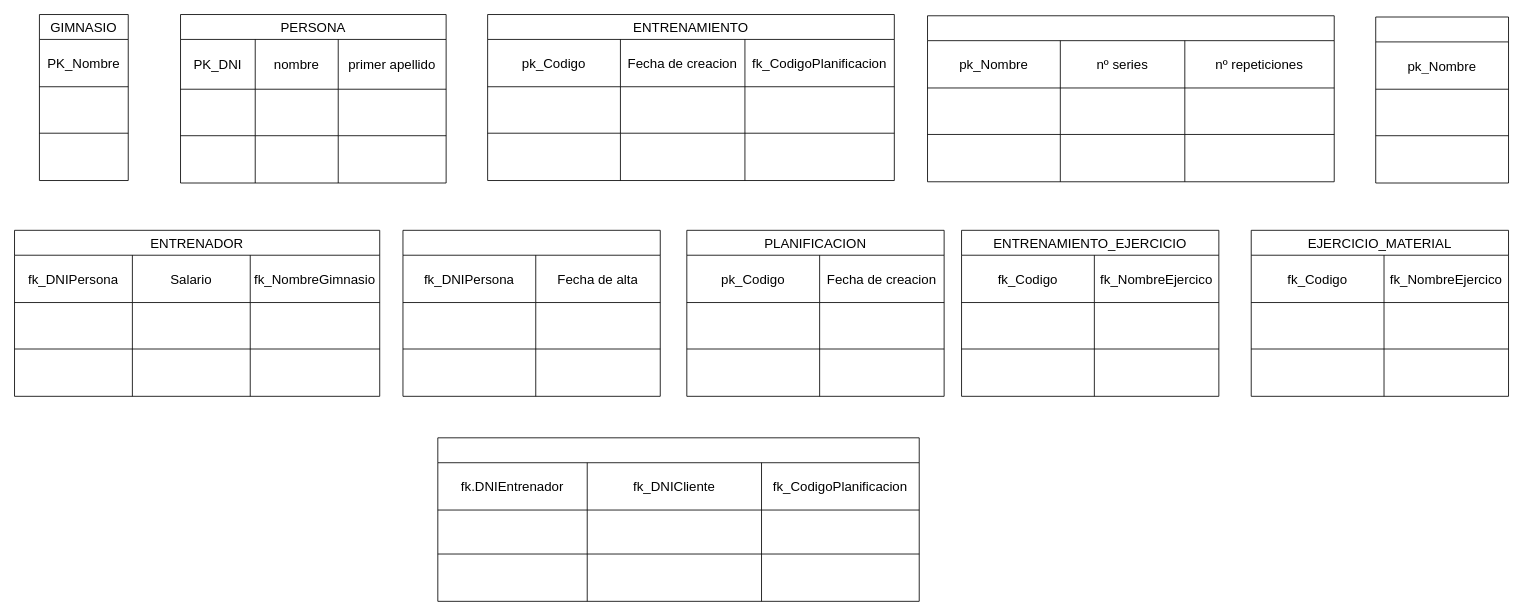
This 1523x616 diagram has some shape labels left out. The box of each missing label's shape, as (x1, y1, x2, y2) in pixels:
CLIENTE: (402, 229, 660, 396)
EJERCICIO: (927, 15, 1334, 182)
ENTRENADOR_CLIENTE_PLANIFICACION: (437, 437, 919, 601)
MATERIAL: (1375, 16, 1509, 183)
